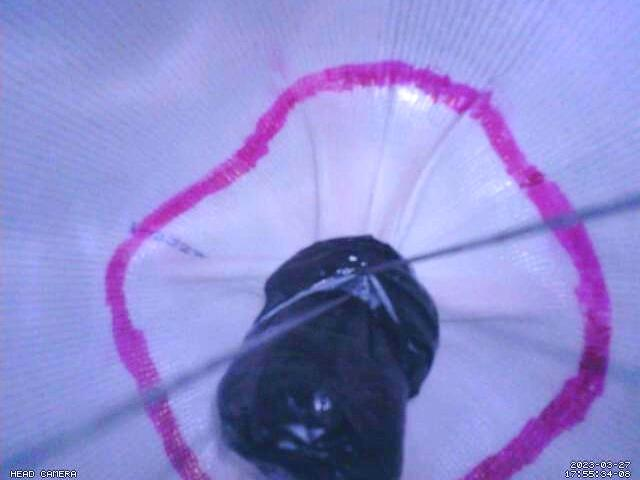red-circle: (104, 58, 614, 480)
